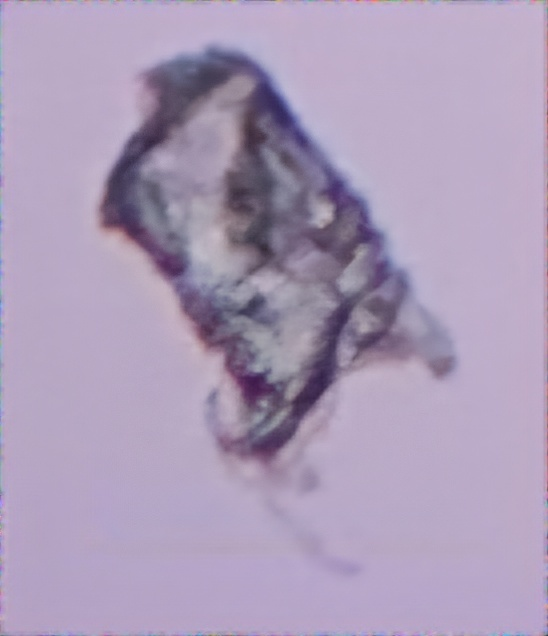microplastic: (90, 40, 472, 588)
